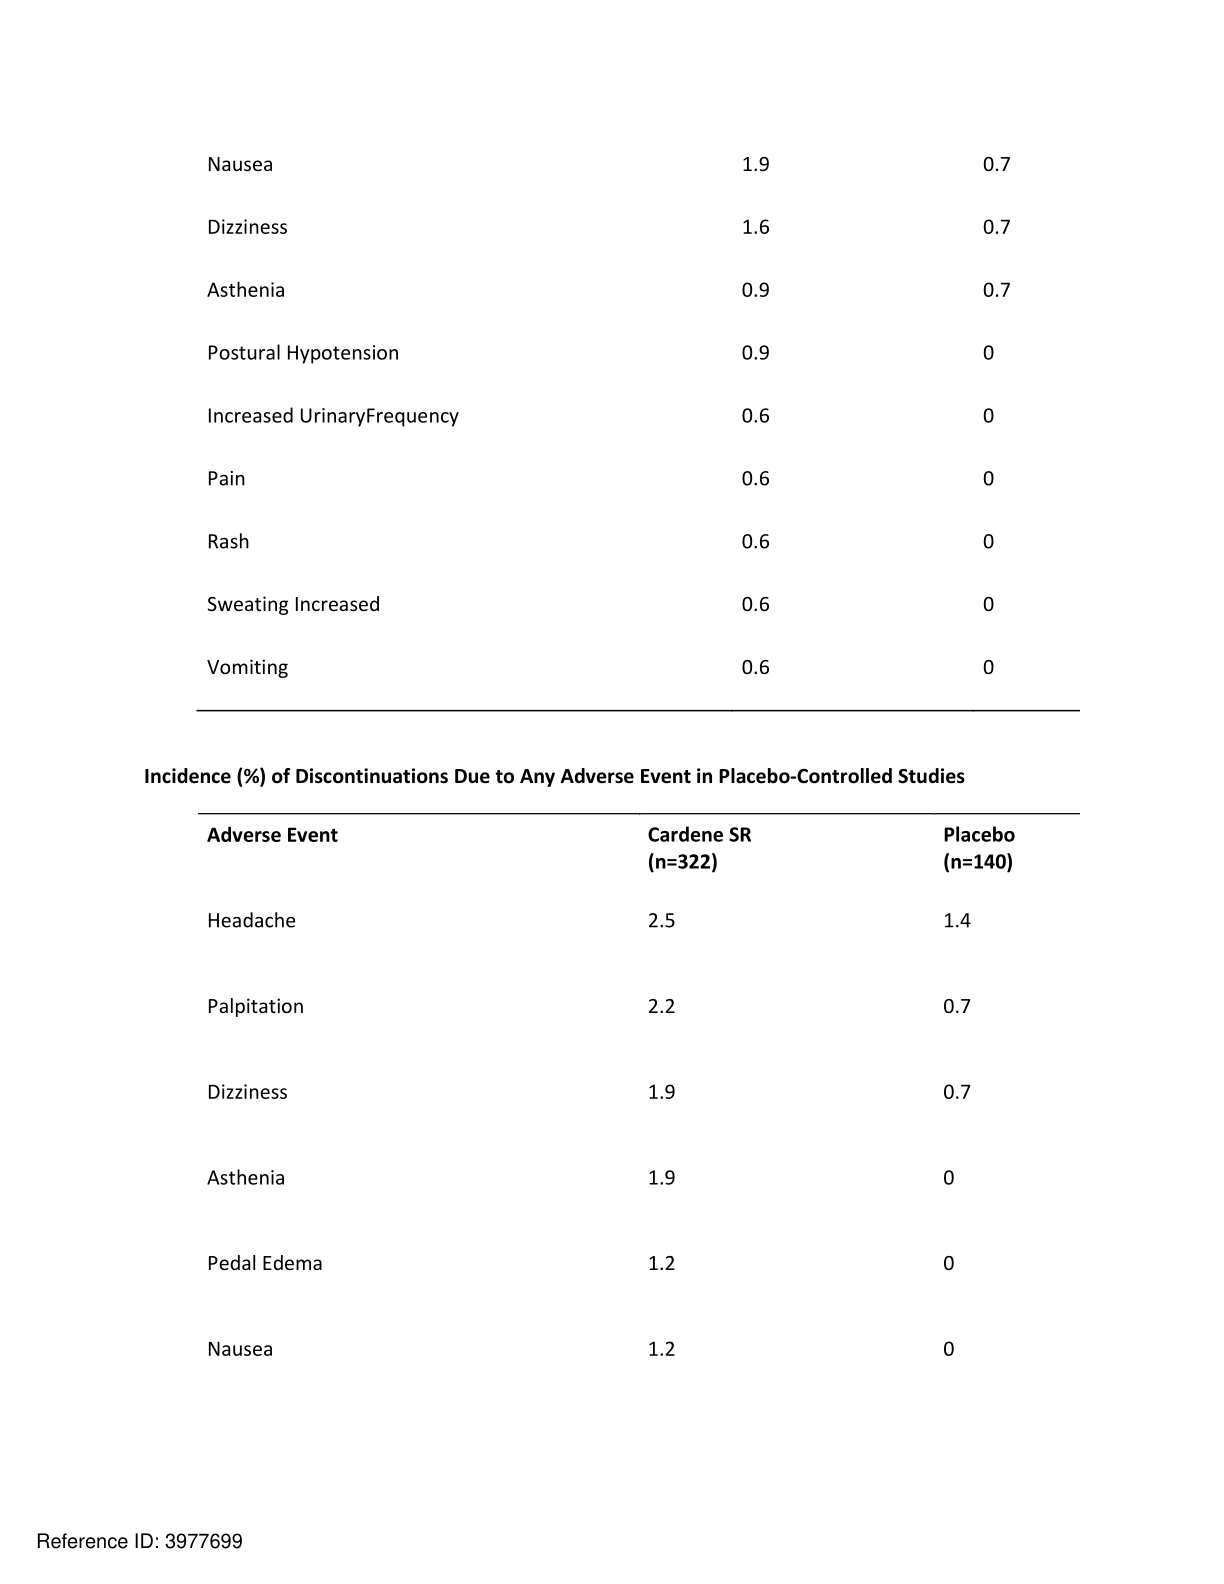nolines: (202, 149, 1013, 680)
partial_lined: (195, 811, 1080, 1368)
